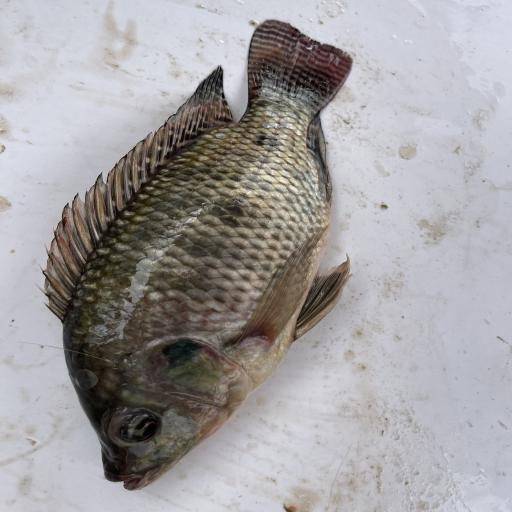Tilapia: (39, 19, 354, 491)
